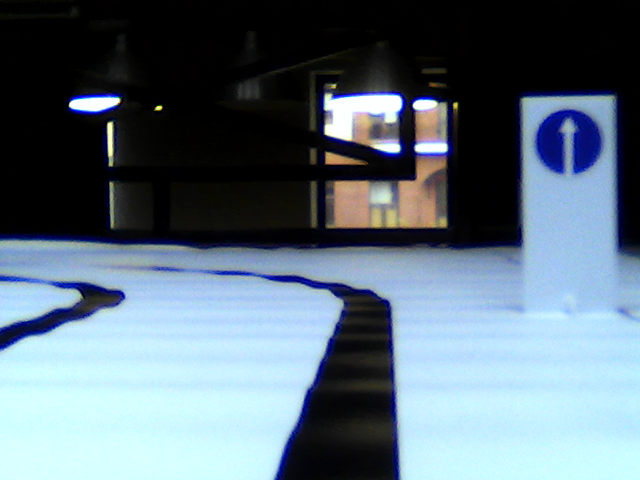forw: (535, 108, 606, 179)
